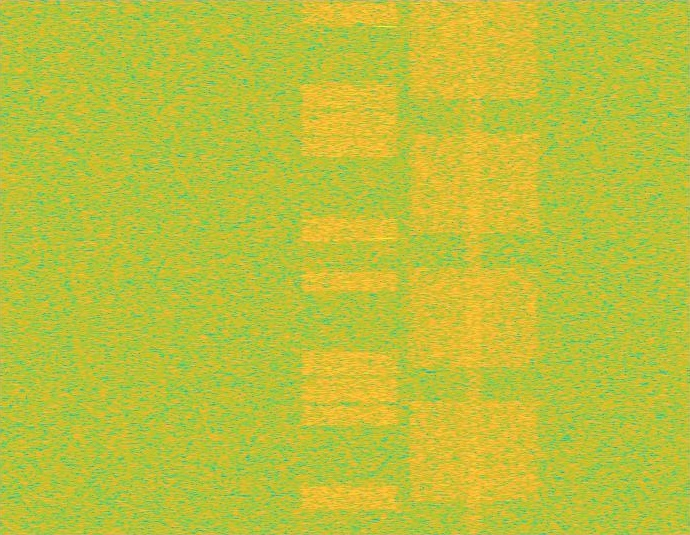5G: (405, 0, 543, 534)
DSSS: (465, 0, 483, 534)
LTE: (298, 0, 401, 534)
Radar: (377, 0, 391, 534)
